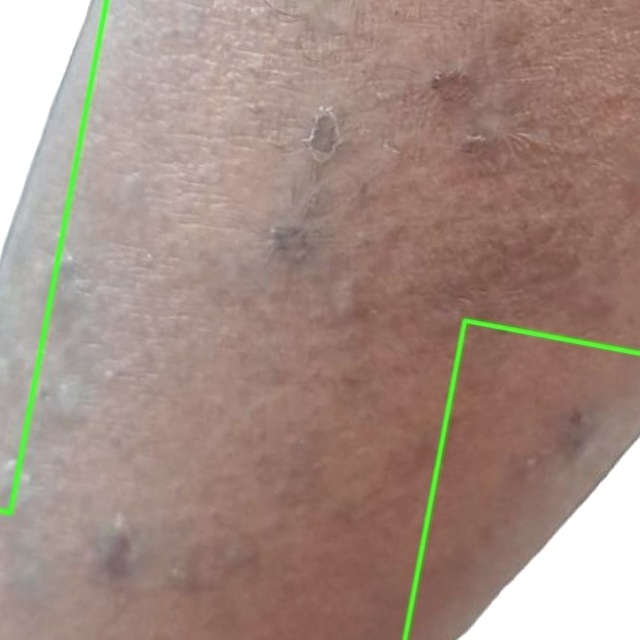Atopic Dermatitis: (405, 320, 639, 639)
